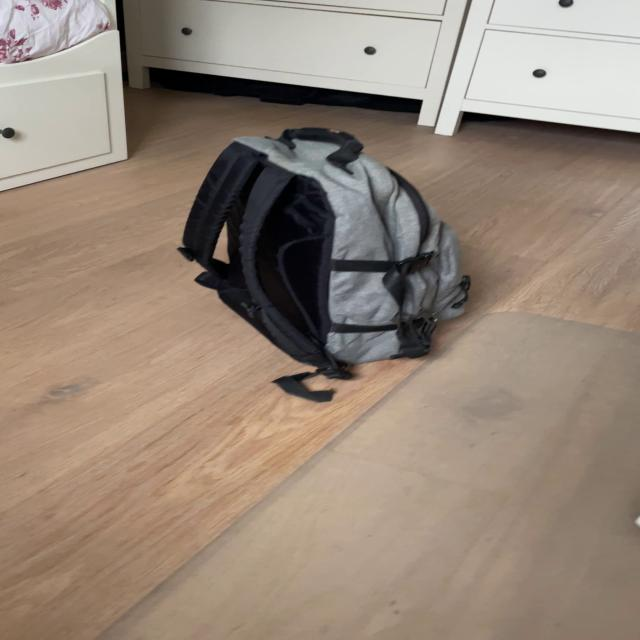backpack: (167, 112, 478, 379)
